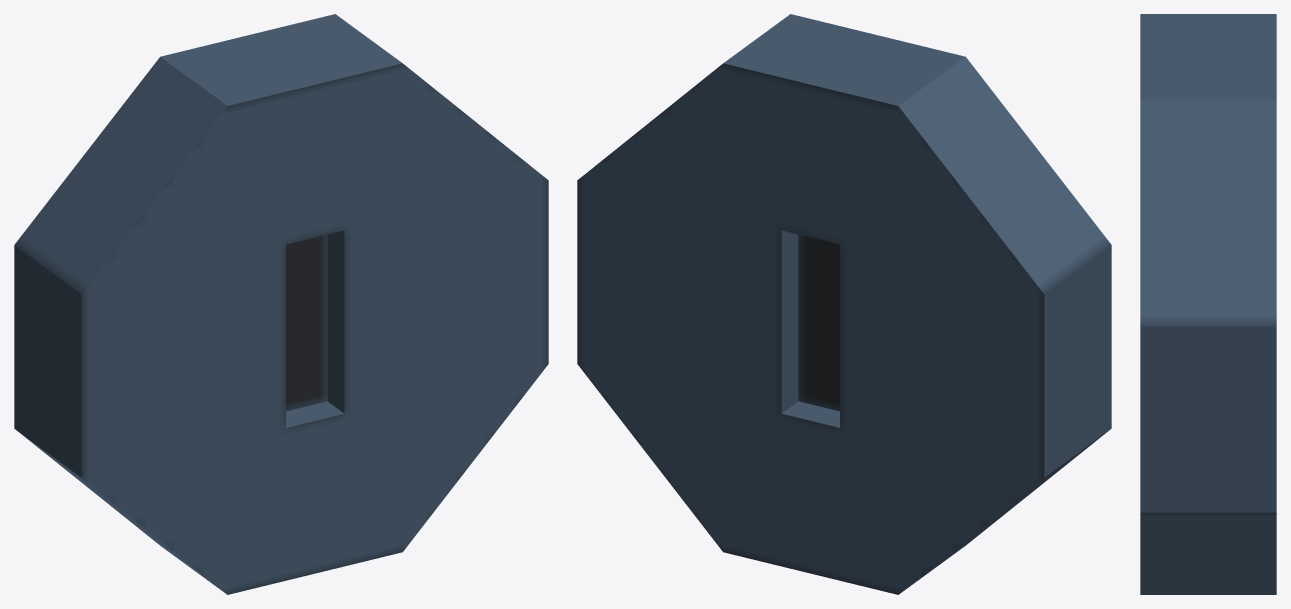
The model's file is screwHead.fbx.
3 views of the same model, side by side, from view 1: azimuth 30°, elevation 25°; view 2: azimuth 150°, elevation 25°; view 3: azimuth 270°, elevation 25° (orthographic).
Parts seen in each view (by area): view 1: generated; view 2: generated; view 3: generated.
Boxes of the visible parts, box(x1,y1,x2,y2) form: generated: box(14, 14, 548, 594); generated: box(577, 14, 1111, 594); generated: box(1140, 14, 1276, 594).
Size of the model in its own units: 160 by 160 by 40.
1 material, 1 textured.
